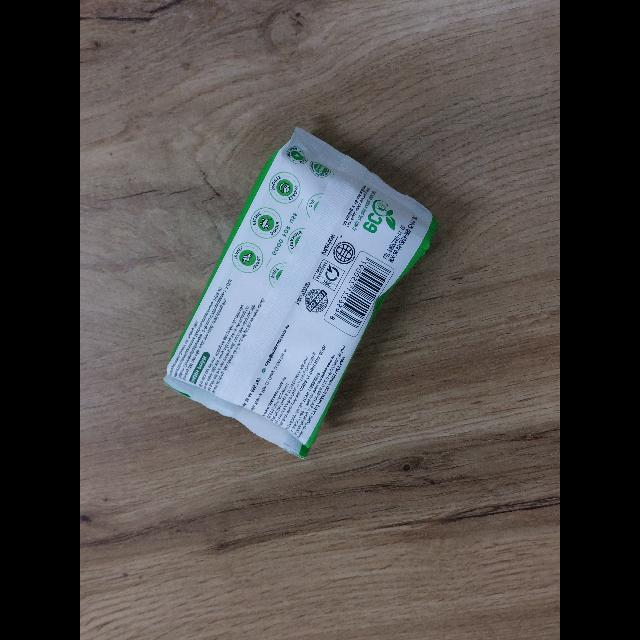khan_giay: (163, 128, 438, 459)
